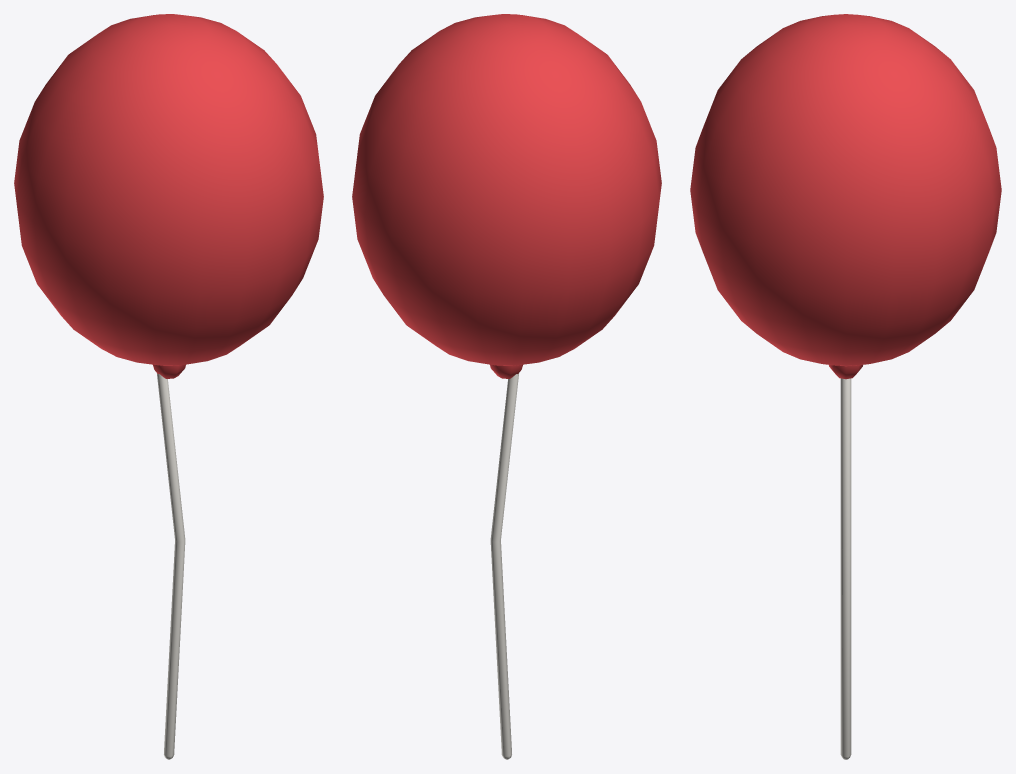
The model's file is hand_balloon.glb.
3 views of the same model, side by side, from view 1: azimuth 30°, elevation 25°; view 2: azimuth 150°, elevation 25°; view 3: azimuth 270°, elevation 25° (orthographic).
Visible parts, largest first — view 1: hand_balloon; view 2: hand_balloon; view 3: hand_balloon.
Part boxes in pixels (x1,y1,x2,y2): hand_balloon: (14, 14, 323, 759); hand_balloon: (352, 14, 661, 759); hand_balloon: (690, 14, 1001, 759).
Bounding box in the file's own units: 0.24 × 0.6245 × 0.24.
